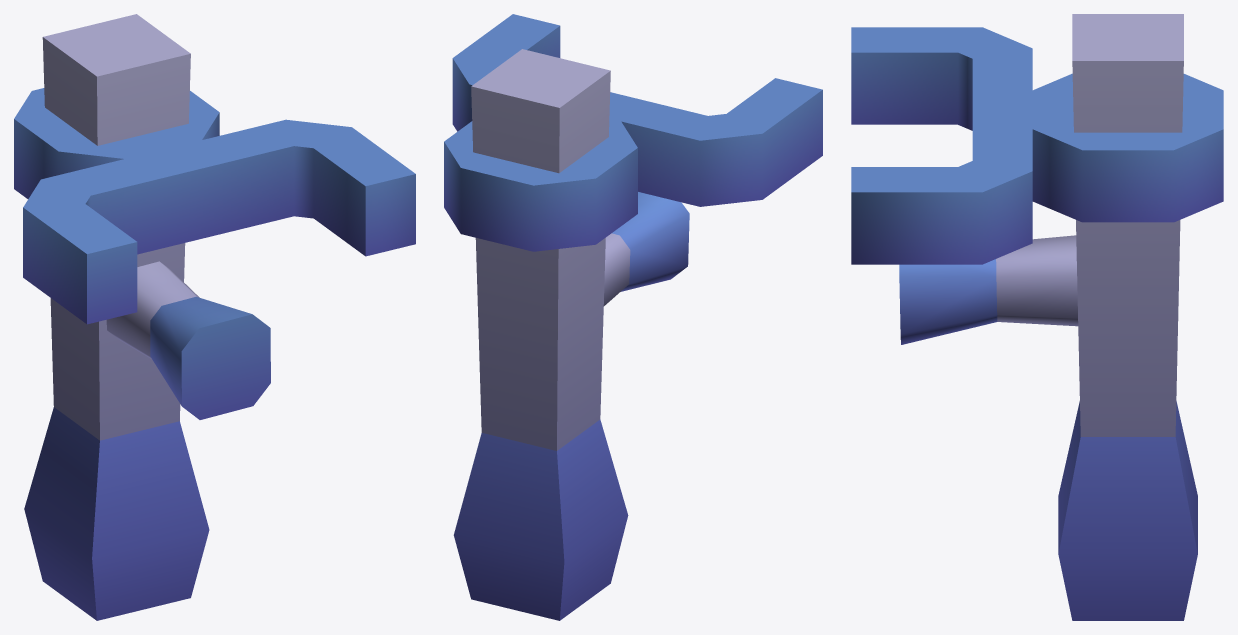
Rendered from aid-crutch.obj.
3 views of the same model, side by side, from view 1: azimuth 30°, elevation 25°; view 2: azimuth 150°, elevation 25°; view 3: azimuth 270°, elevation 25° (orthographic). The views are drawn at different scales.
Visible parts, largest first — view 1: aid-crutch, Group; view 2: Group, aid-crutch; view 3: aid-crutch, Group.
Boxes of the visible parts, bbox=[...] form: aid-crutch: bbox=[14, 88, 415, 419]; Group: bbox=[24, 14, 209, 620]; Group: bbox=[453, 49, 628, 620]; aid-crutch: bbox=[444, 14, 822, 306]; aid-crutch: bbox=[851, 27, 1223, 344]; Group: bbox=[1058, 14, 1197, 620].
Size of the model in its own units: 0.196 by 0.31 by 0.187.
1 material, 1 textured.
